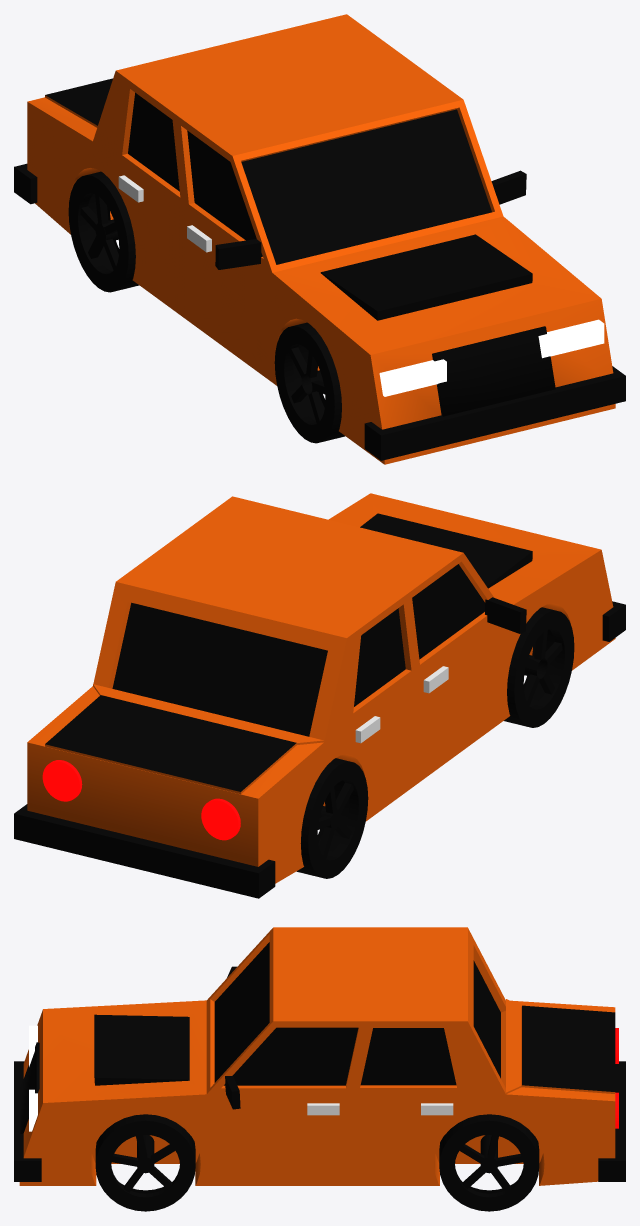
The picture shows the model from 3 angles, top to bottom: view 1: azimuth 30°, elevation 25°; view 2: azimuth 150°, elevation 25°; view 3: azimuth 270°, elevation 25°; orthographic projection. The views are drawn at different scales.
Visible parts, largest first — view 1: Cube, Cylinder, Cube.001, Cube.005, Cube.004, Cube.002; view 2: Cube, Cylinder, Cube.002, Cylinder.001, Cube.004, Cube.001; view 3: Cube, Cylinder, Cube.003, Cube.002, Cube.001, Cube.005, Cube.004, Cube.006, Cube.007.
Boxes of the visible parts, box(x1,y1,x2,y2) form: Cube: box(27, 14, 615, 464); Cylinder: box(68, 171, 344, 443); Cube.001: box(364, 366, 625, 460); Cube.005: box(379, 319, 604, 396); Cube.004: box(215, 170, 526, 269); Cube.002: box(14, 163, 37, 204); Cube: box(27, 493, 615, 883); Cylinder: box(296, 607, 574, 878); Cube.002: box(14, 804, 275, 898); Cylinder.001: box(42, 760, 240, 840); Cube.004: box(485, 597, 526, 633); Cube.001: box(602, 601, 625, 641); Cube: box(19, 927, 615, 1185); Cylinder: box(95, 1114, 539, 1211); Cube.003: box(92, 1135, 542, 1163); Cube.002: box(598, 1061, 625, 1181); Cube.001: box(14, 1061, 41, 1181); Cube.005: box(29, 1025, 37, 1131); Cube.004: box(225, 966, 240, 1109); Cube.006: box(307, 1103, 339, 1115); Cube.007: box(421, 1103, 453, 1115).
Size of the model in its own units: 9.89 by 6.94 by 20.43.
